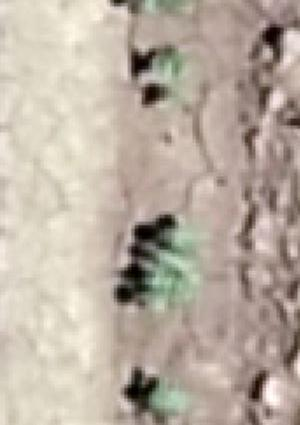cotton: (154, 53, 186, 75), (151, 388, 179, 410), (146, 267, 169, 293), (173, 264, 191, 295), (158, 251, 186, 270), (168, 229, 194, 249), (165, 88, 182, 102)
